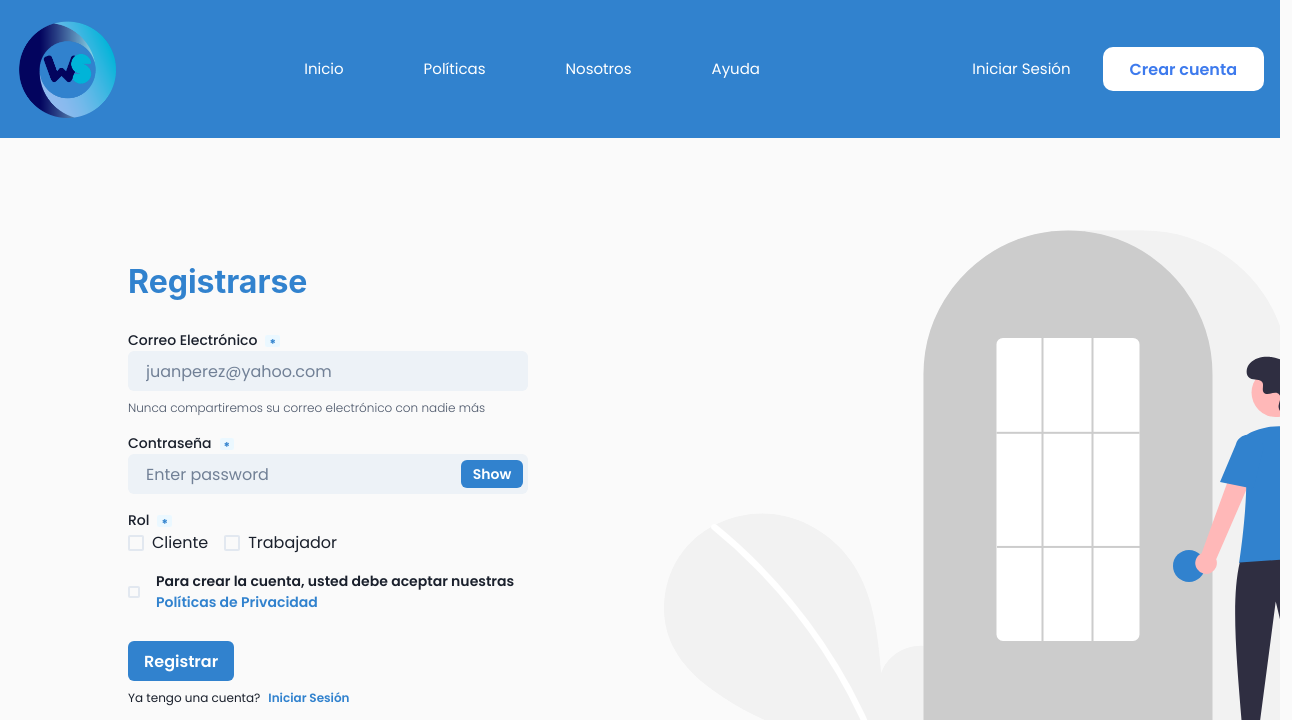
Test case: Pruebas Unitarias › Pruebas de registro › Selecciona los dos roles
This screenshot has width=1292, height=720.
In the field named "email": (328, 371) [128, 351, 528, 391], type "myemail@domain.com"
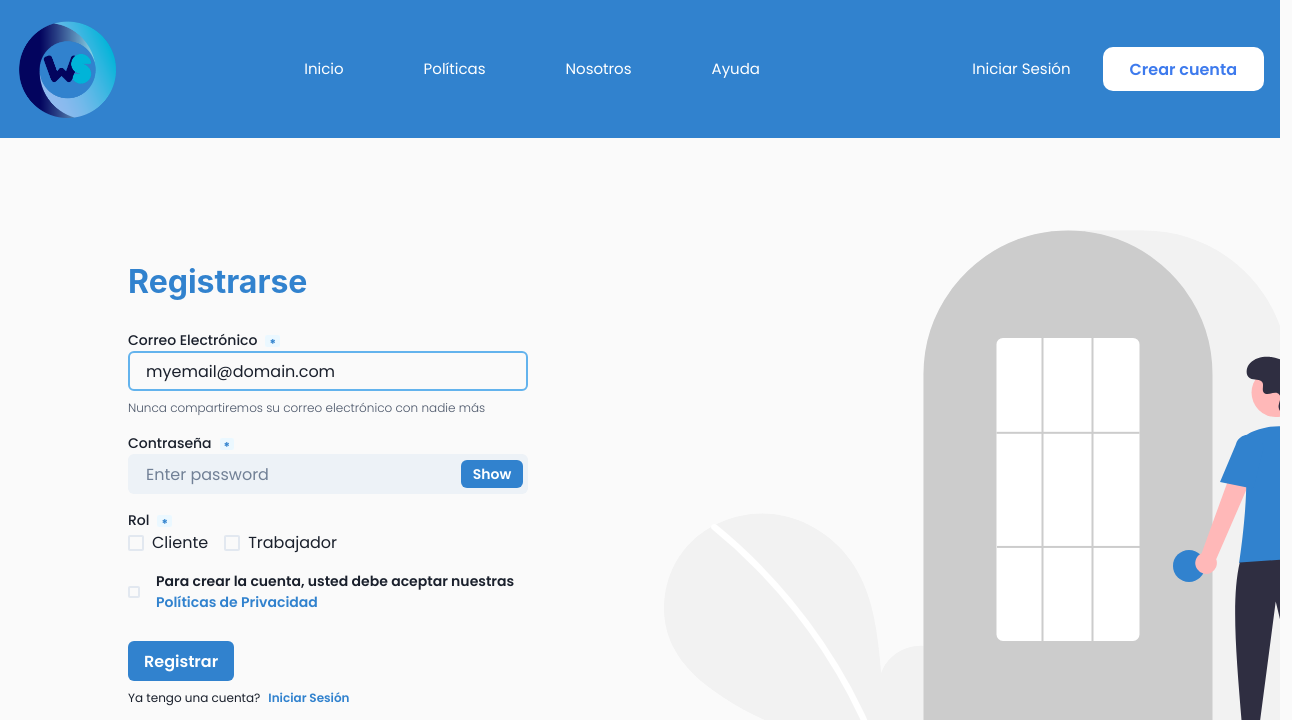
In the password field named "password": (328, 474) [128, 454, 528, 494], type "1234"
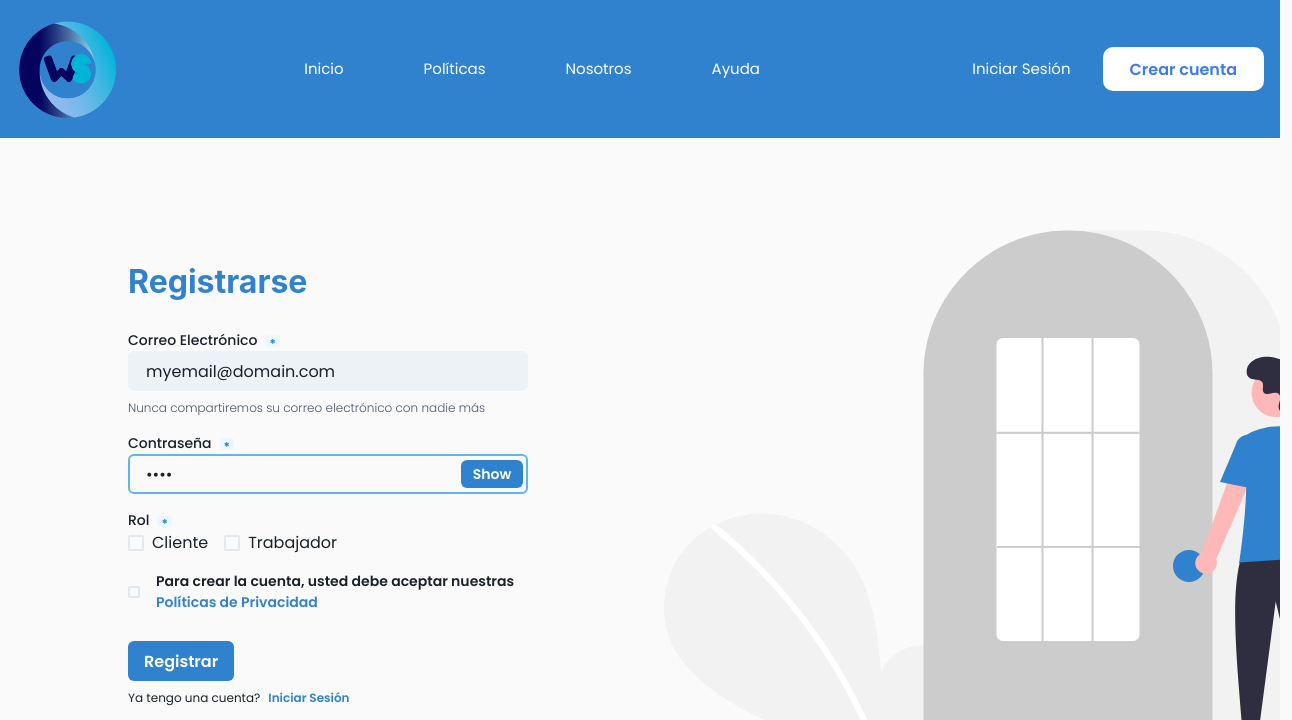
Check the checkbox named "rol[0": (168, 543) [128, 531, 208, 555]
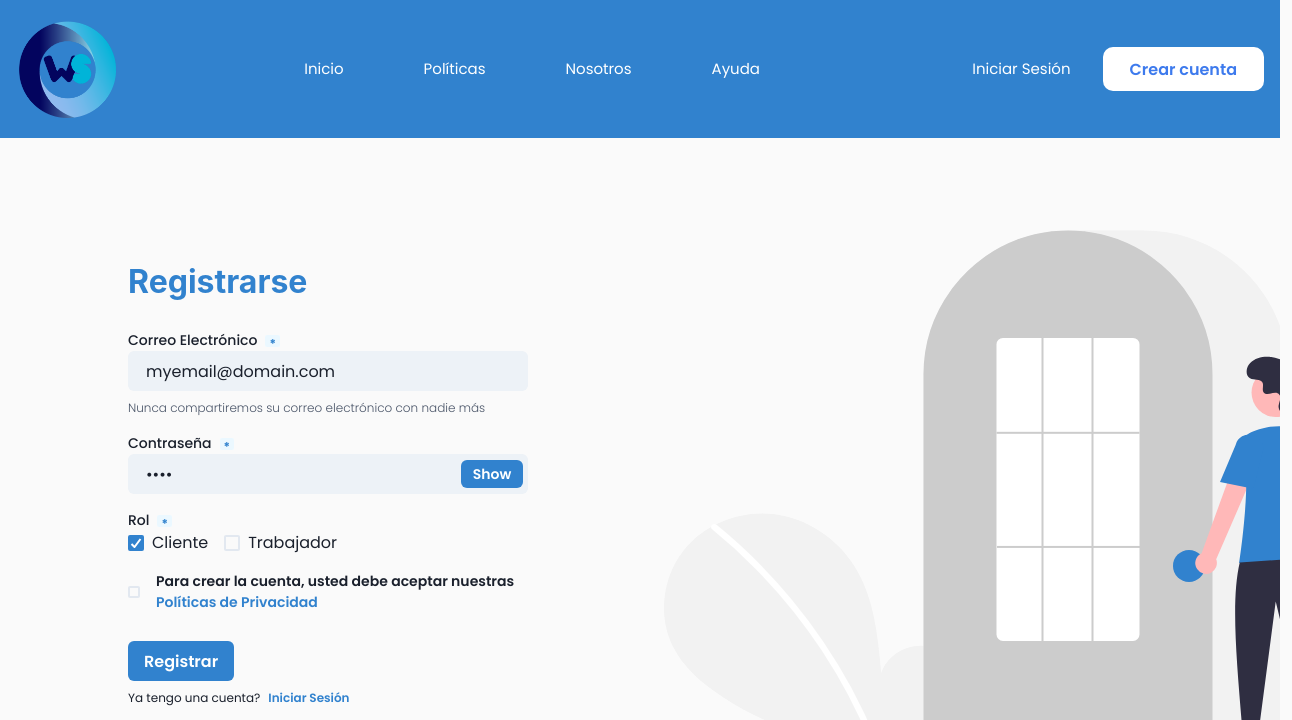
Check the checkbox named "rol[1": (281, 543) [224, 531, 337, 555]
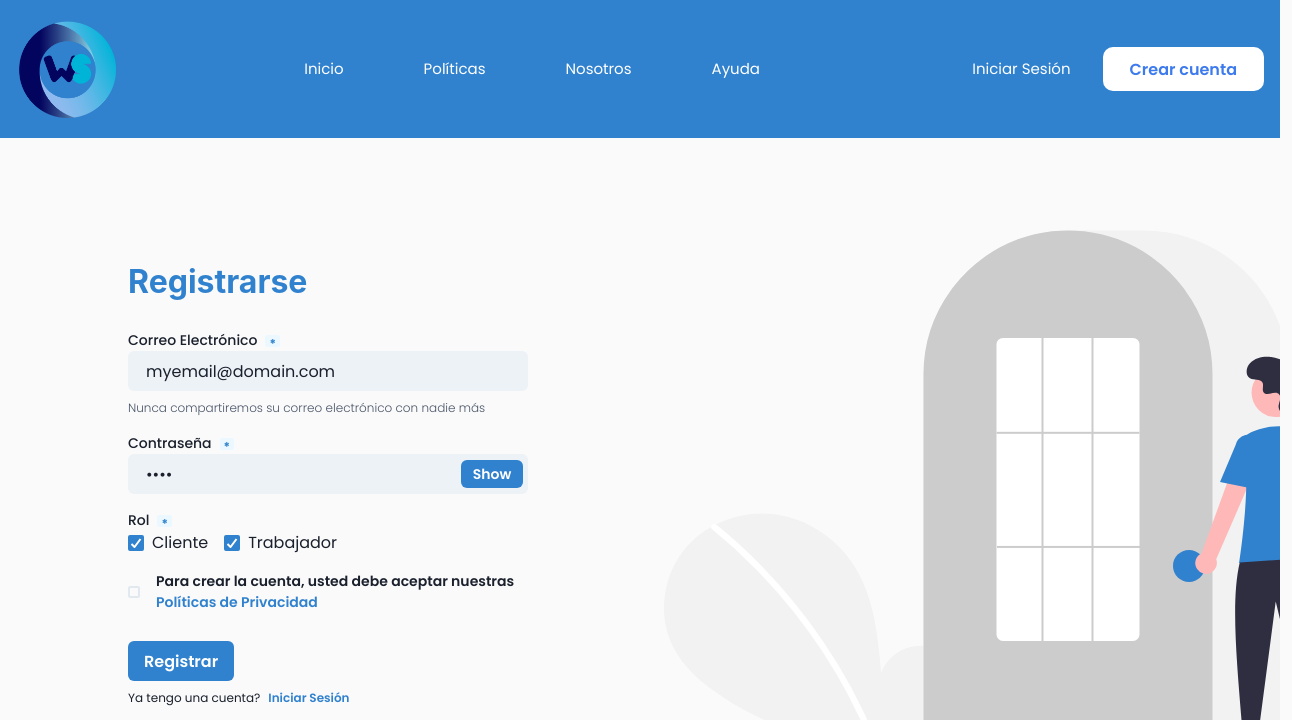
Check the checkbox named "poli": (328, 592) [128, 571, 528, 613]
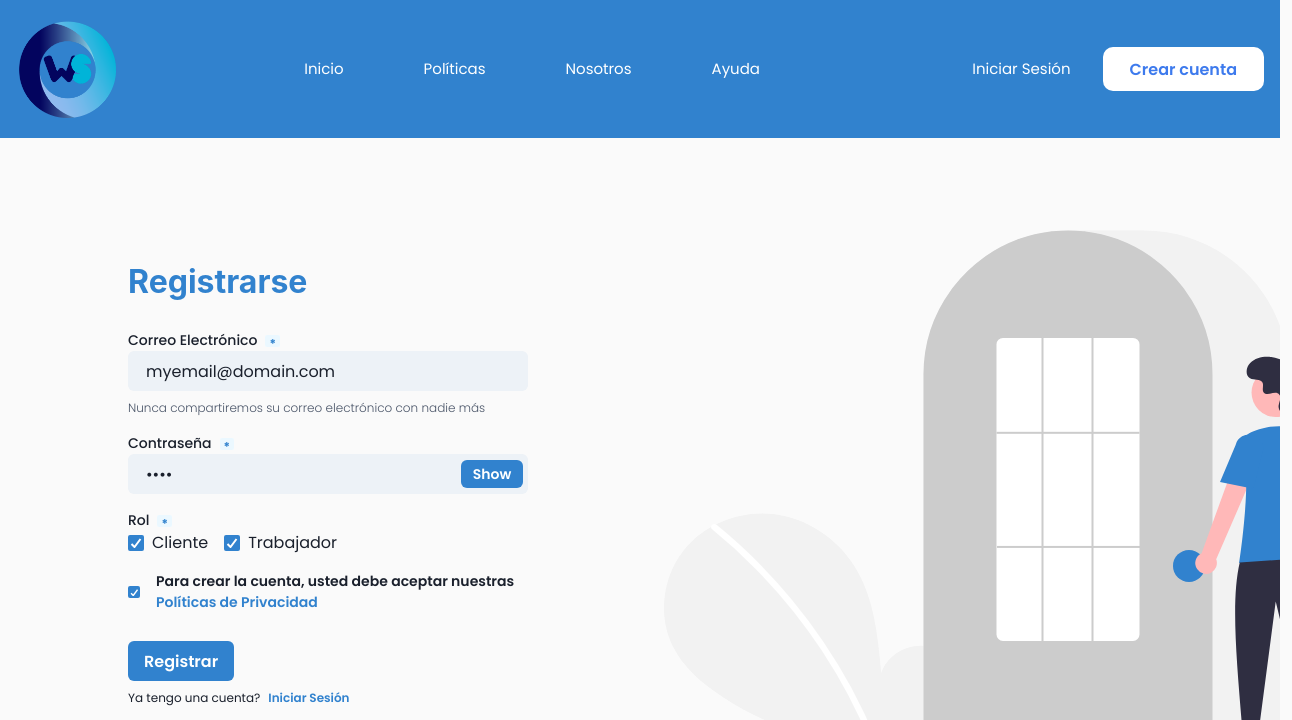
Click the submit button: (181, 661) [128, 641, 234, 681]
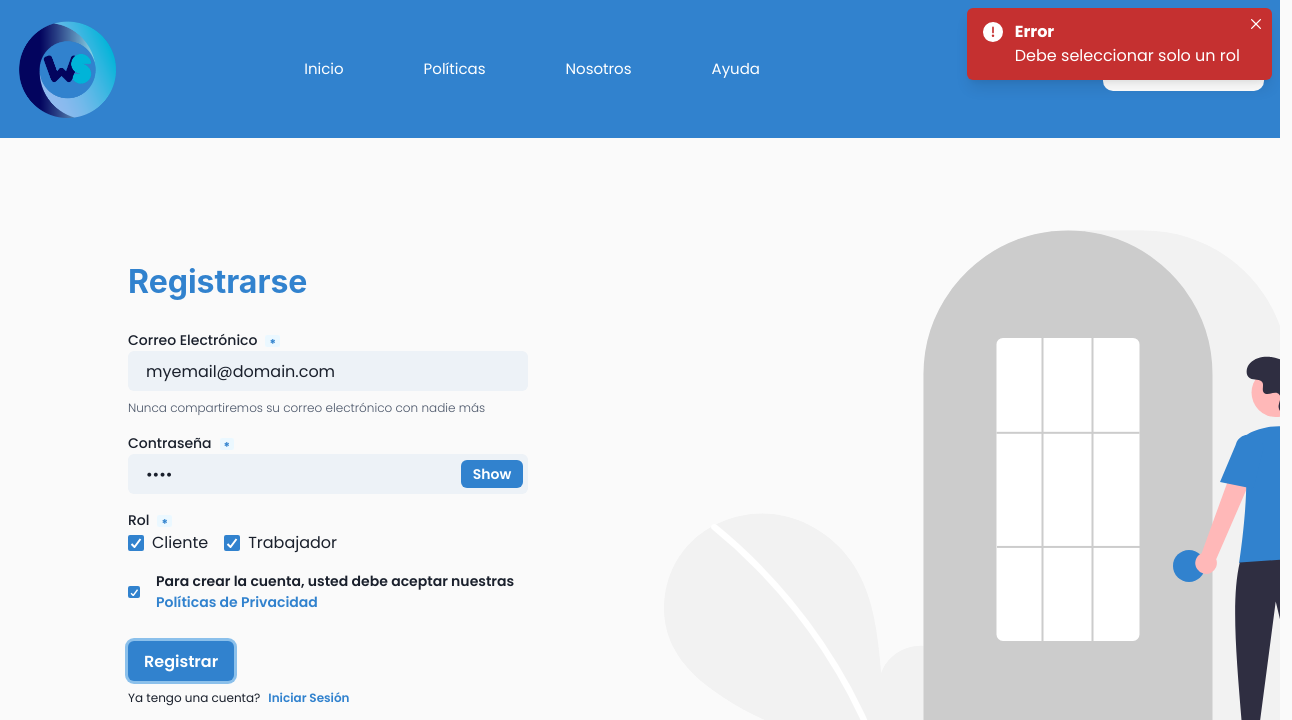
Expected: the text "Debe seleccionar solo un rol" is shown, [1015, 44, 1240, 68]
